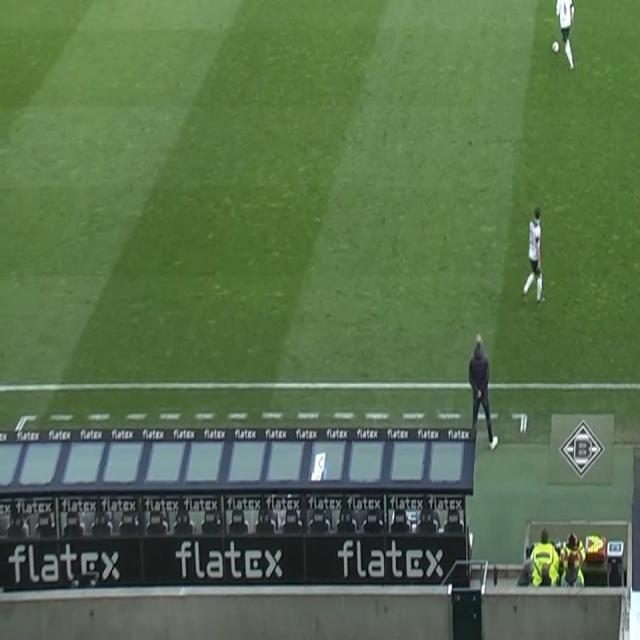ball: (551, 40, 560, 55)
